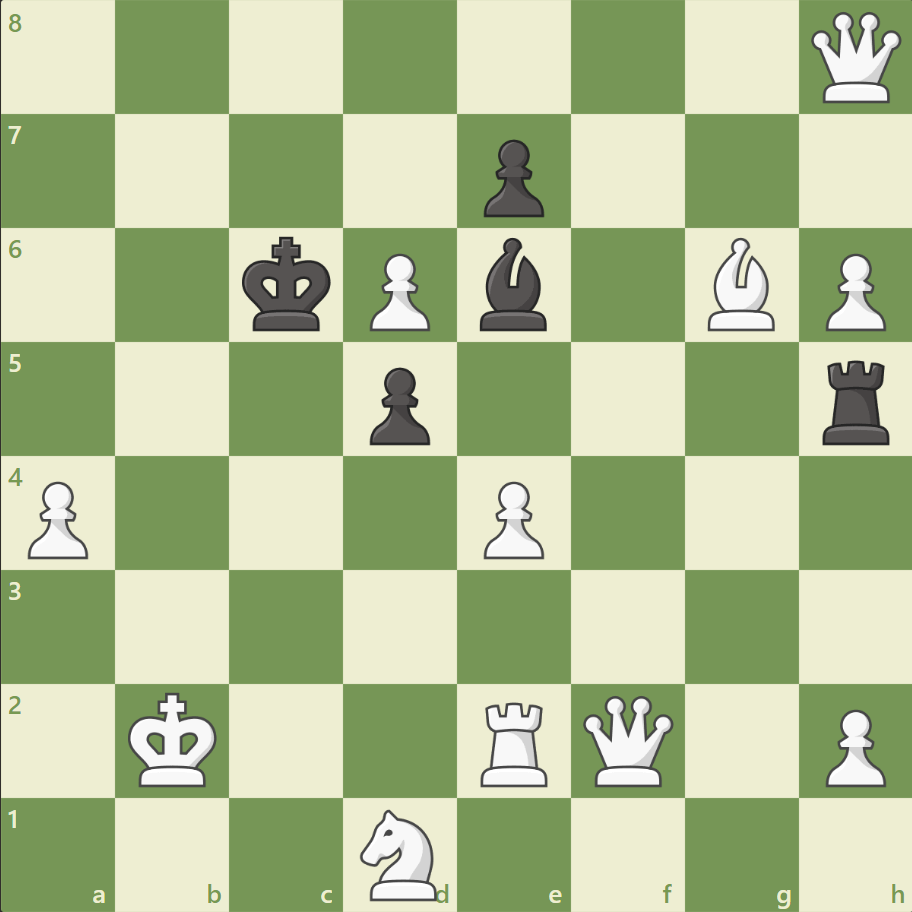B: (698, 233, 782, 336)
K: (124, 685, 224, 793)
N: (351, 802, 449, 904)
P: (20, 473, 95, 564), (474, 473, 549, 564), (361, 246, 435, 337), (815, 246, 889, 337), (815, 700, 889, 791)
Q: (805, 9, 904, 108), (578, 690, 677, 789)
R: (473, 693, 556, 790)
b: (471, 233, 555, 336)
k: (238, 231, 338, 339)
p: (474, 132, 549, 223), (361, 359, 435, 450)
r: (814, 352, 897, 449)
